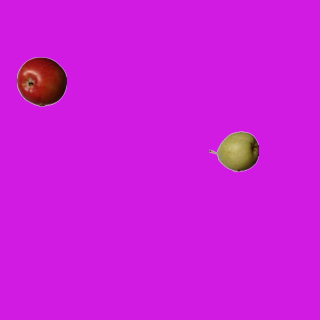Apple Braeburn: (16, 56, 66, 106)
Pear: (208, 126, 258, 176)
